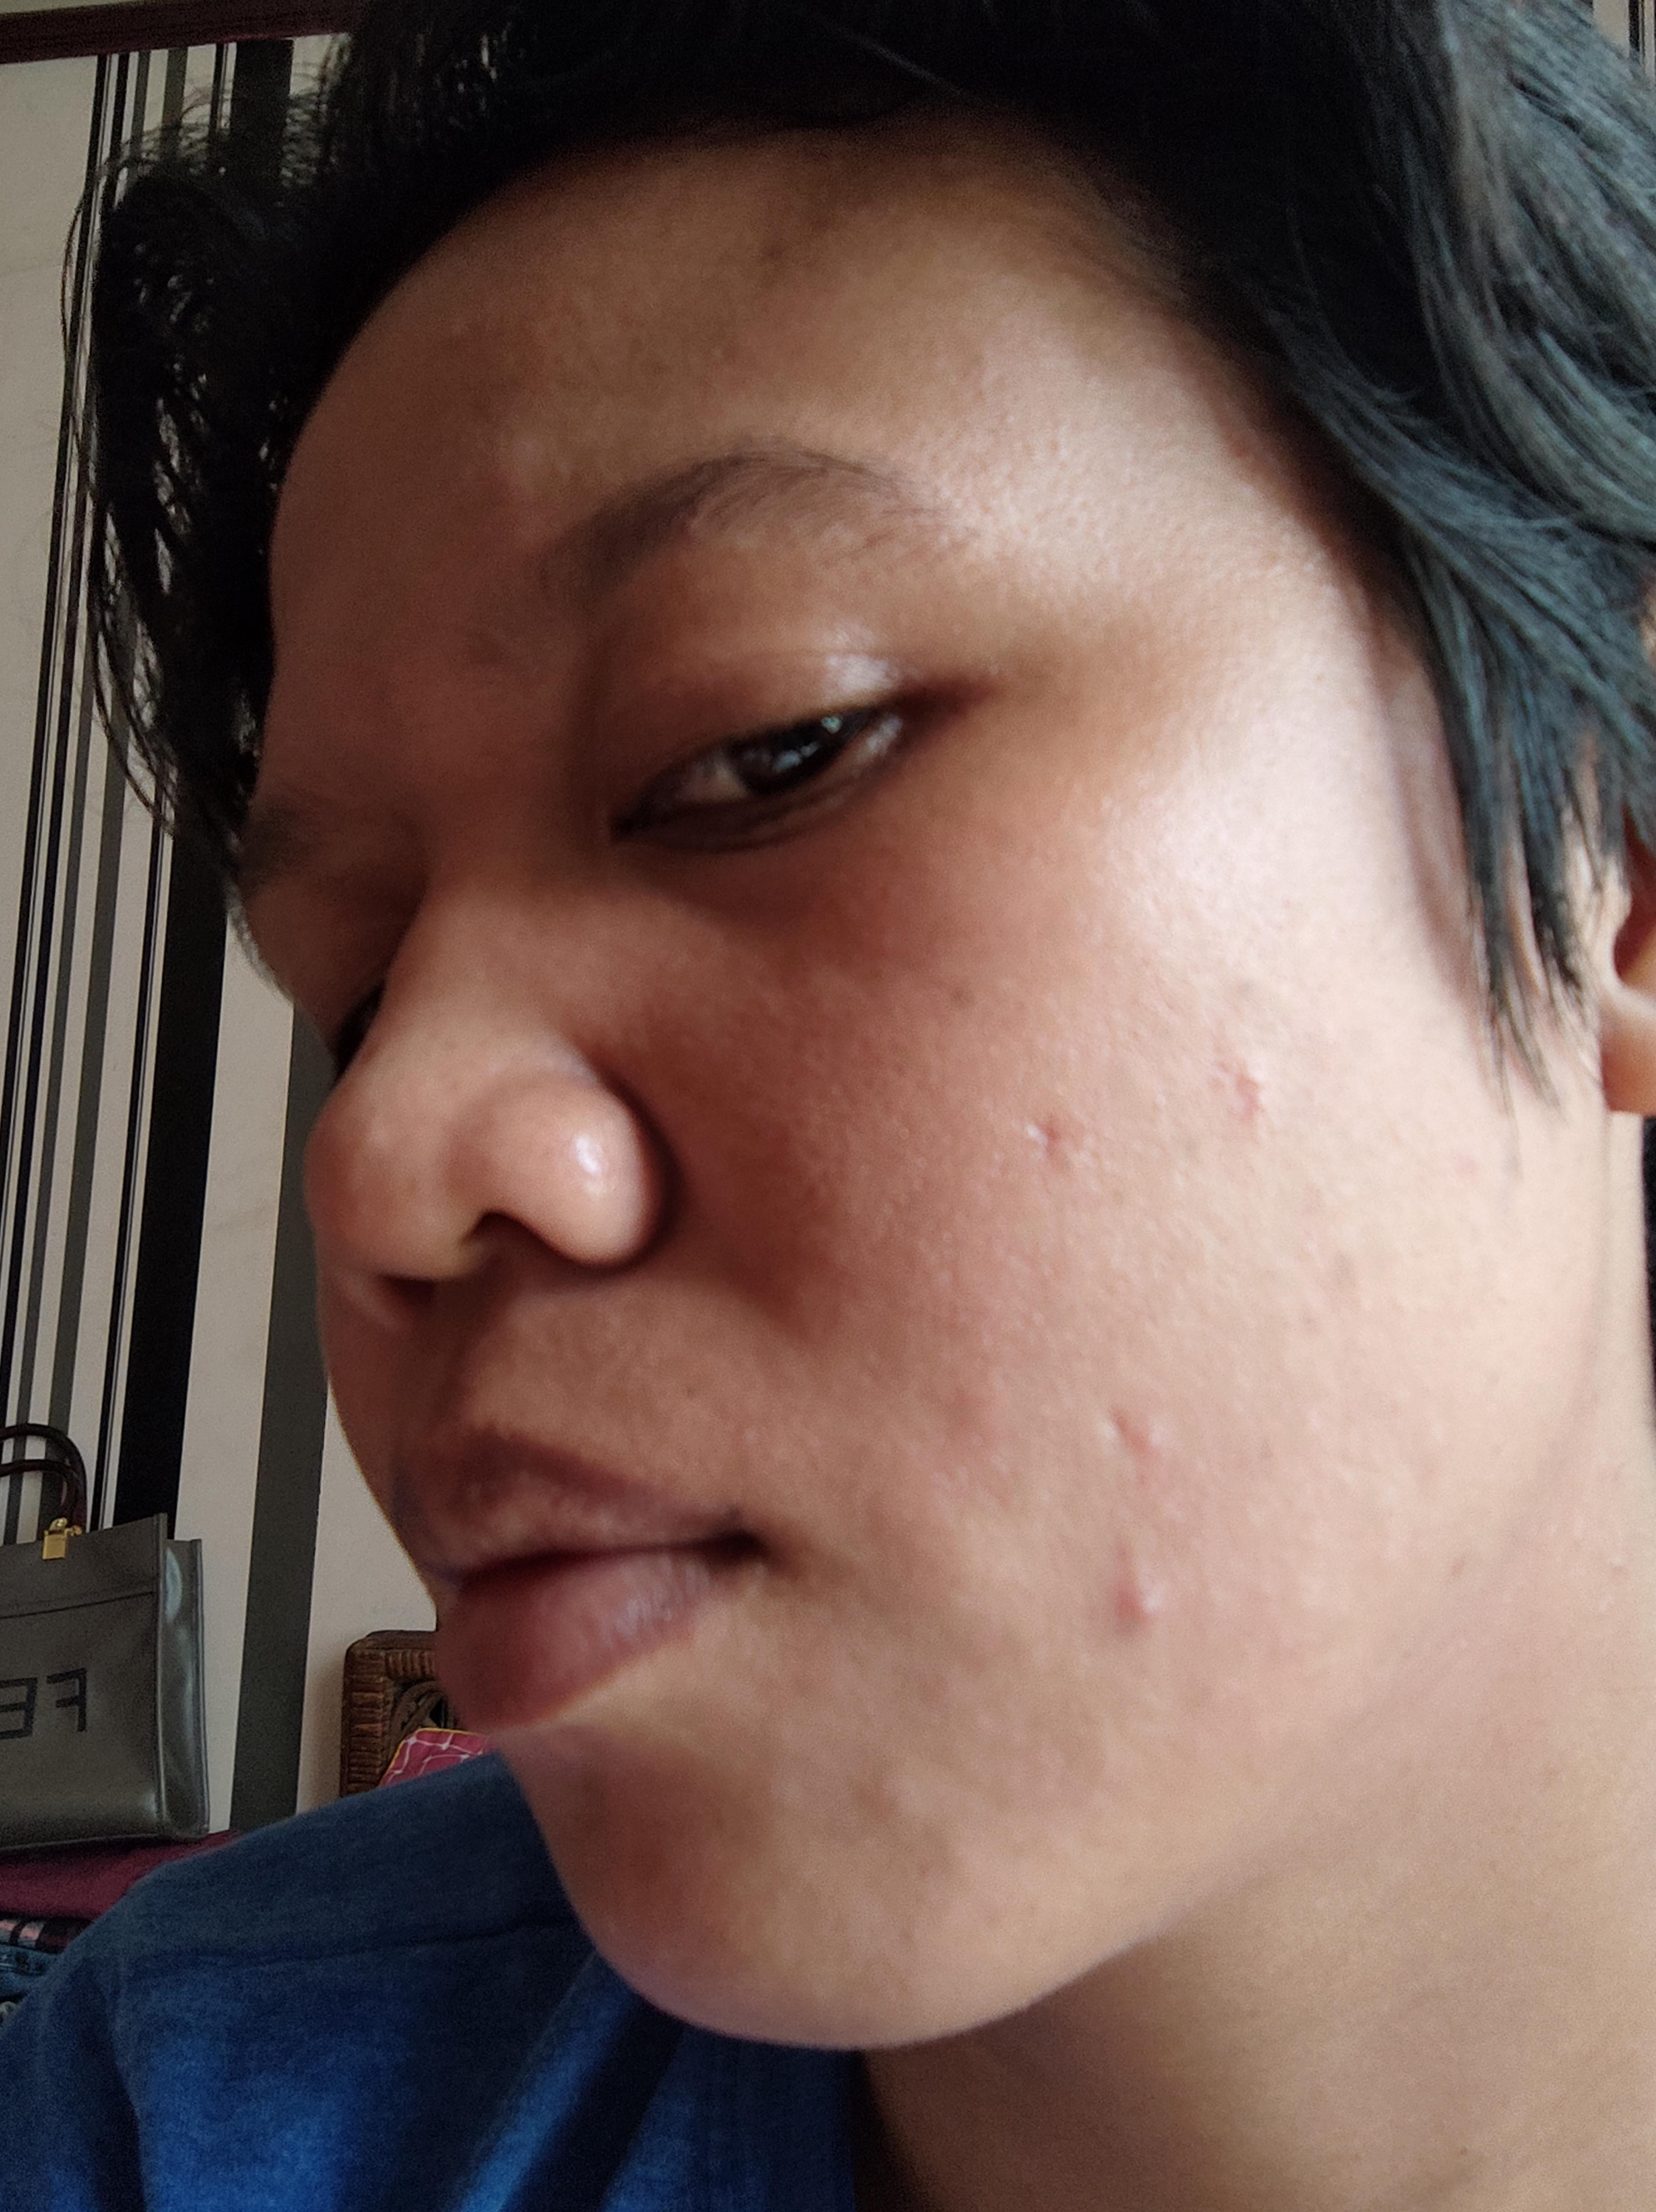Acne: (1202, 1016, 1305, 1134), (1115, 1544, 1185, 1652), (1108, 1391, 1197, 1466), (941, 1370, 1021, 1450), (845, 1762, 934, 1822), (1023, 1090, 1092, 1163), (1303, 1229, 1364, 1297)
